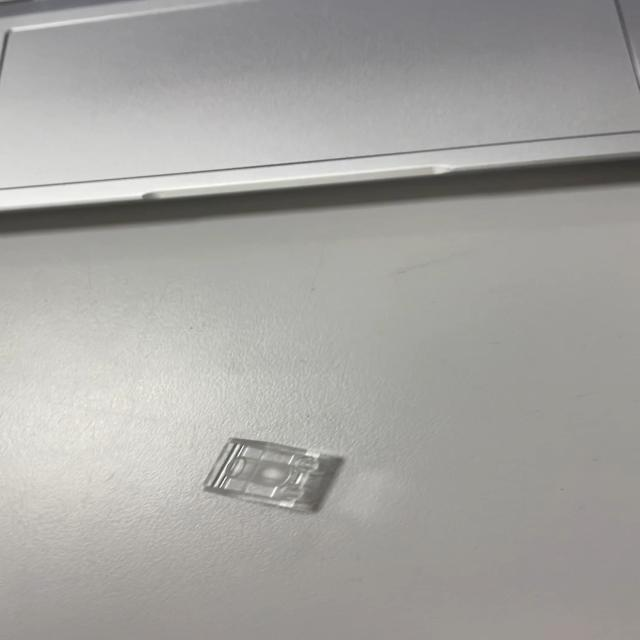P2x2x1: (201, 436, 331, 512)
